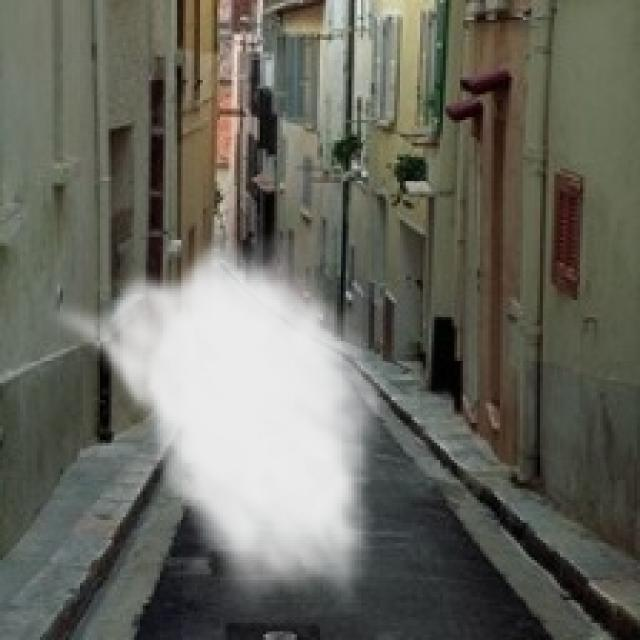Smoke: (42, 225, 392, 618)
